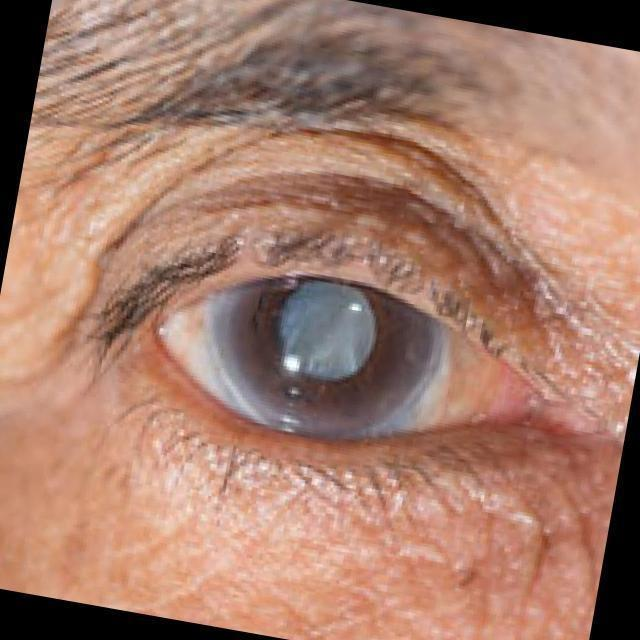Cataract: (183, 222, 480, 472)
